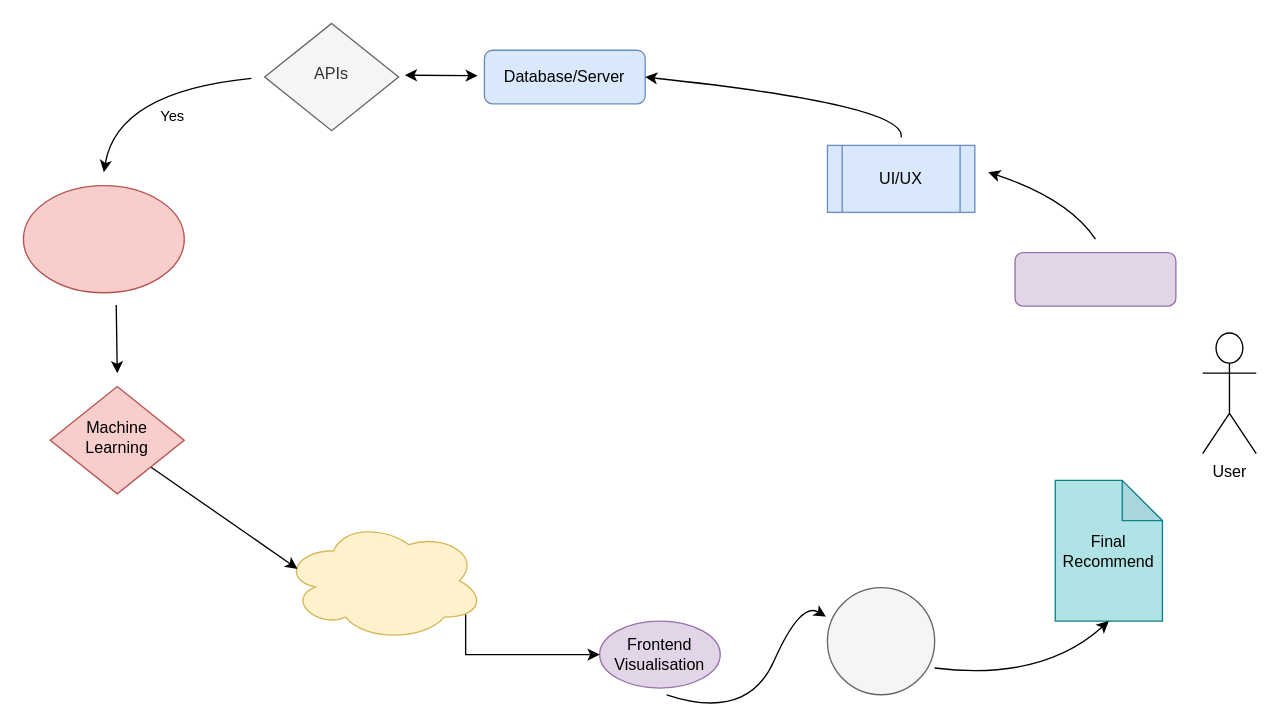
Image size: 1280x728. Some labels were removed from this diagram. The shapes that lost their labels are listed below. From the top down, each one's centre as x and y in pixels, then its label:
At point 103,238: "Auxiliary Transgression".
At point 1095,278: "Query".
At point 383,580: "Output Coordinates (nearest graph)".
At point 880,640: "Fetch API data".
